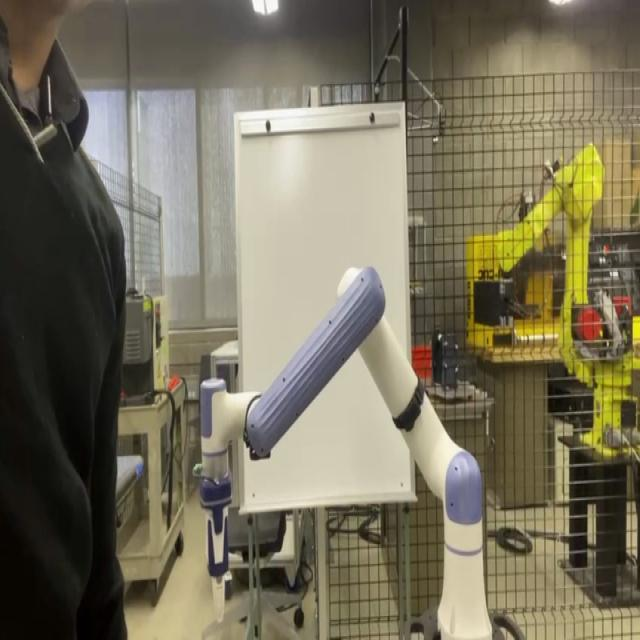robot: (195, 262, 525, 638)
